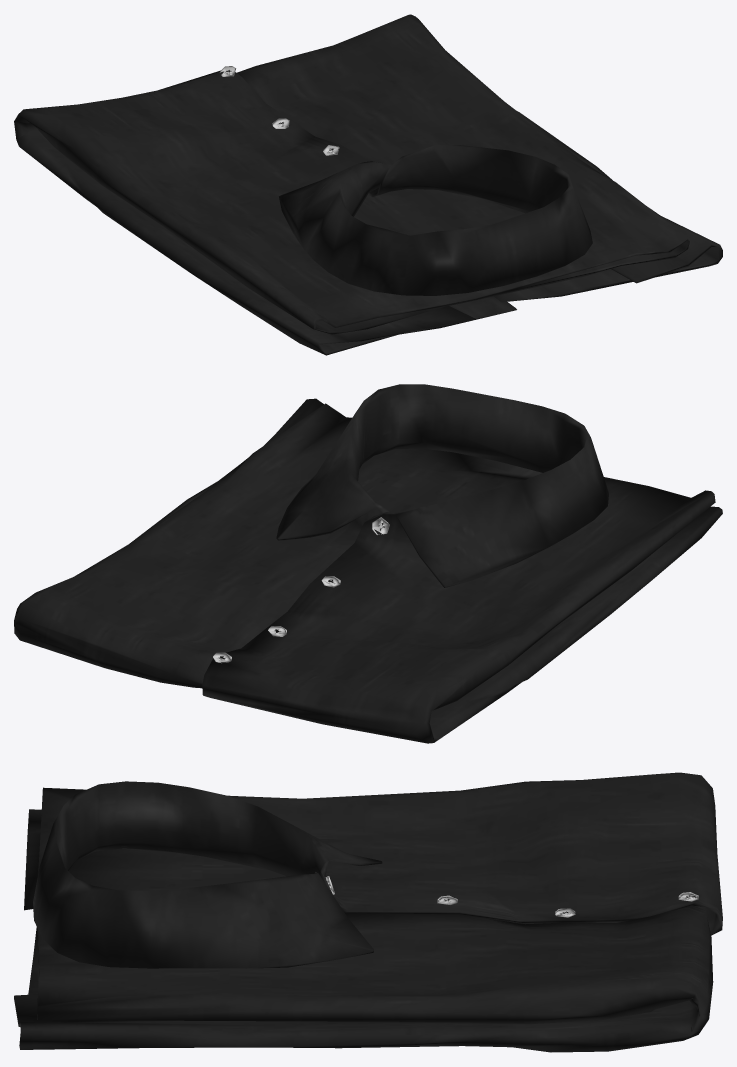
Rendered from hvfold_Plane614.glb.
3 renders of one model, top to bottom at view 1: azimuth 30°, elevation 25°; view 2: azimuth 150°, elevation 25°; view 3: azimuth 270°, elevation 25°, orthographic. The views are drawn at different scales.
Parts seen in each view (by area): view 1: BP_Plane614; view 2: BP_Plane614; view 3: BP_Plane614.
Boxes of the visible parts, x1,y1,x2,y2 form: BP_Plane614: (14,14,722,355); BP_Plane614: (14,384,722,743); BP_Plane614: (14,772,722,1052).
Size of the model in its own units: 0.2271 by 0.0538 by 0.2869.
2 materials, 2 textured.
